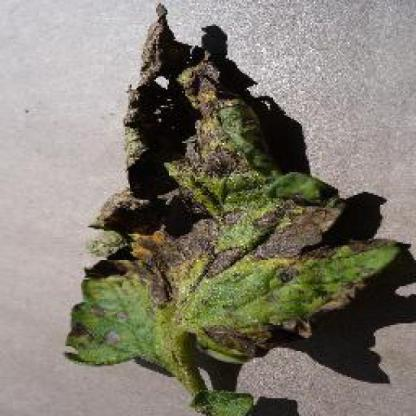Strawberry_Angular_LeafSpot: (183, 66, 250, 180), (122, 220, 217, 295), (252, 199, 341, 262), (200, 321, 277, 355), (210, 245, 252, 276)
